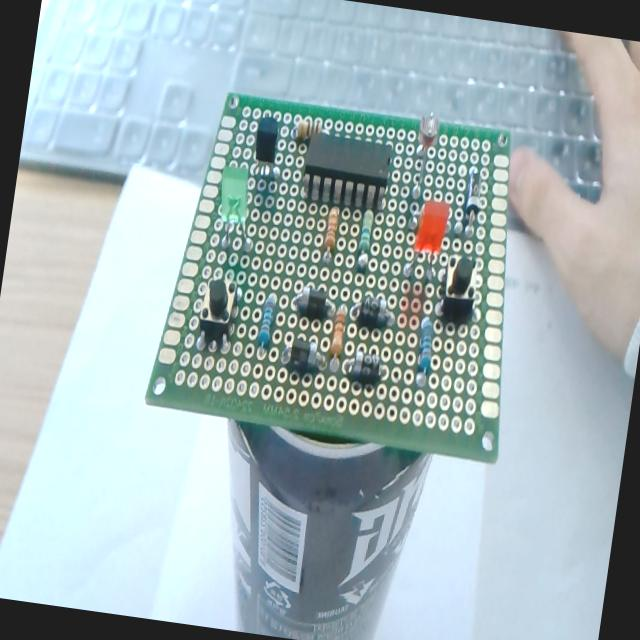IC: (296, 128, 396, 212)
cds: (408, 111, 442, 208)
diode: (280, 336, 328, 378), (341, 344, 385, 388), (349, 292, 397, 332), (292, 284, 339, 322), (460, 167, 486, 234)
led: (401, 196, 452, 283), (210, 167, 254, 259)
resistor: (412, 316, 438, 382), (257, 290, 278, 349), (356, 208, 376, 268), (328, 306, 348, 361), (322, 205, 341, 258), (297, 118, 323, 146)
switch: (196, 274, 240, 354), (436, 251, 482, 324)
transistor: (248, 114, 288, 205)
